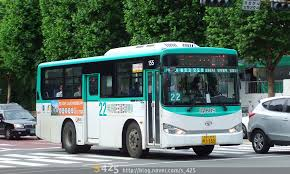bnum: (168, 92, 182, 102)
